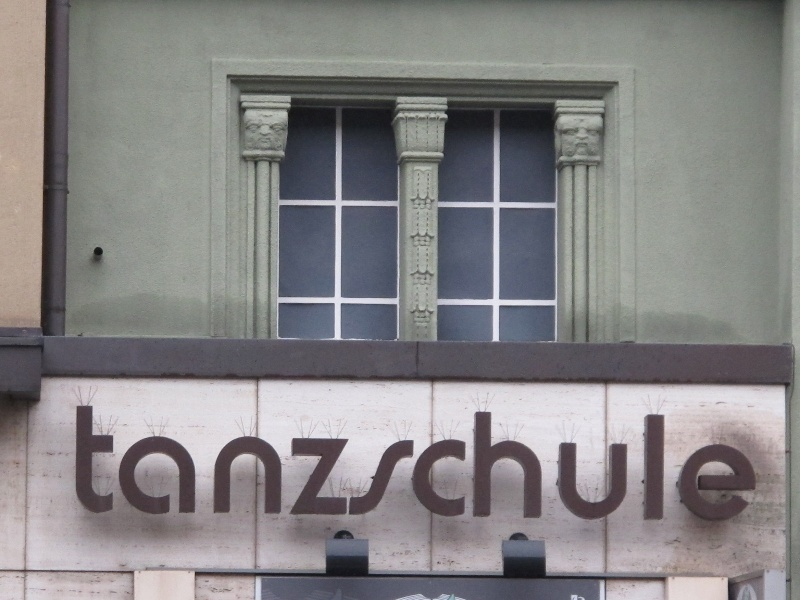text: (81, 407, 96, 522), (97, 407, 112, 522), (113, 407, 128, 522), (129, 407, 144, 522), (145, 407, 160, 522), (161, 407, 176, 522), (177, 407, 192, 522), (193, 407, 208, 522), (209, 407, 224, 522), (225, 407, 240, 522), (241, 407, 256, 522), (257, 407, 272, 522), (273, 407, 288, 522), (289, 407, 304, 522), (305, 407, 320, 522), (321, 407, 336, 522), (337, 407, 352, 522), (353, 407, 368, 522), (369, 407, 384, 522), (385, 407, 400, 522), (401, 407, 416, 522), (417, 407, 432, 522), (433, 407, 448, 522), (449, 407, 464, 522), (465, 407, 480, 522), (481, 407, 496, 522), (497, 407, 512, 522), (513, 407, 528, 522), (529, 407, 544, 522), (545, 407, 560, 522), (561, 407, 576, 522), (577, 407, 592, 522), (593, 407, 608, 522), (609, 407, 624, 522), (625, 407, 640, 522), (641, 407, 656, 522), (657, 407, 672, 522), (673, 407, 688, 522), (689, 407, 704, 522), (705, 407, 720, 522), (721, 407, 736, 522), (737, 407, 752, 522), (76, 407, 80, 522), (753, 407, 757, 522)
